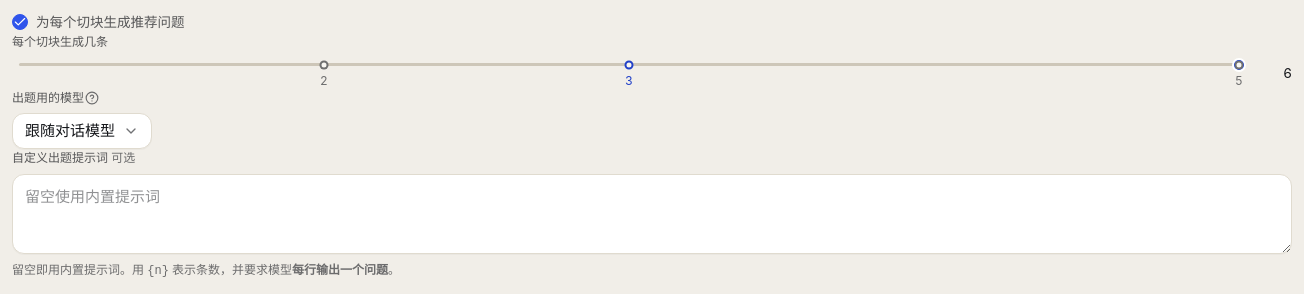
it: SuggestedQuestionsFields › 模型下拉只列能对话的模型（停用供应商的也不算），第一项是「跟随对话模型」
Click the dropdown named "出题用的模型". click: click(82, 131)
box: [12,113,152,149]
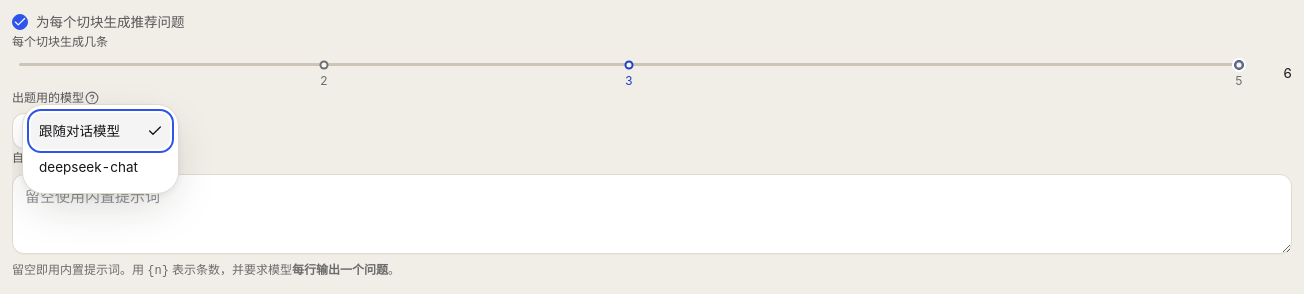
Check: the options read "跟随对话模型", "deepseek-chat", in this order, box [31,113,170,149]; [39,159,138,175]
